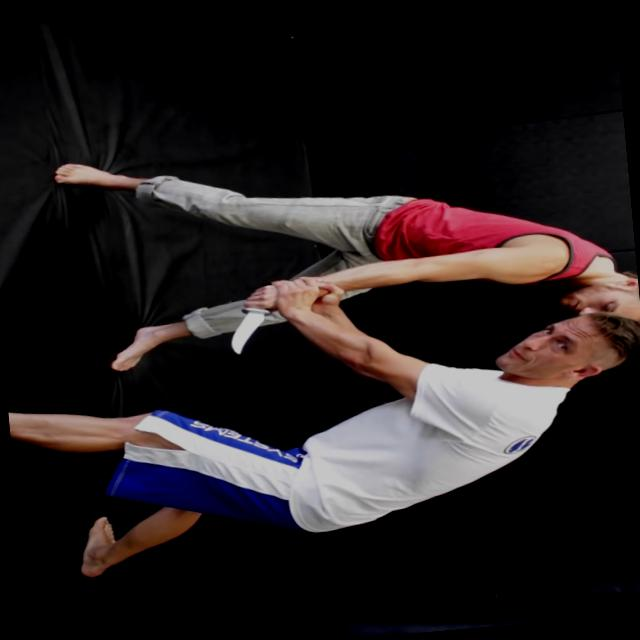knife: (218, 278, 281, 358)
